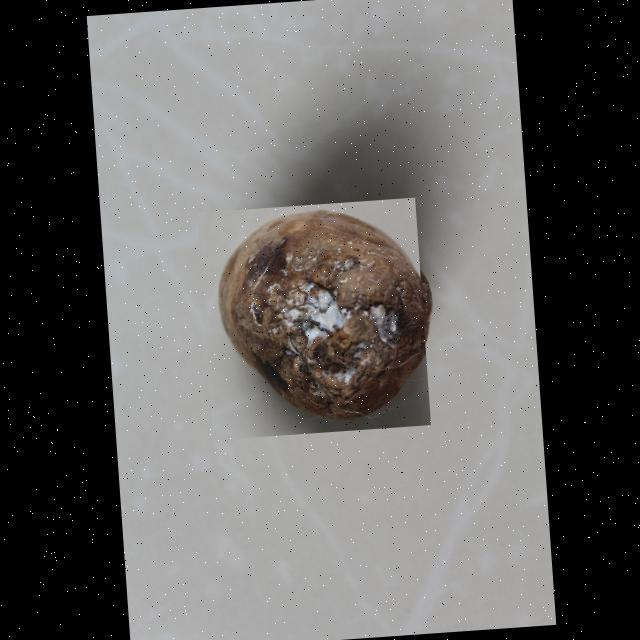Diseased-fungal potato: (196, 197, 430, 440)
